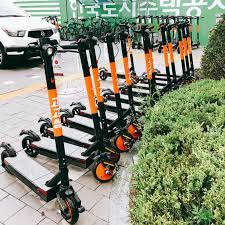kick_wheel: (55, 194, 78, 225), (94, 157, 115, 182), (115, 134, 133, 152), (21, 137, 38, 156), (1, 149, 13, 173), (41, 123, 51, 137), (61, 115, 70, 126)
